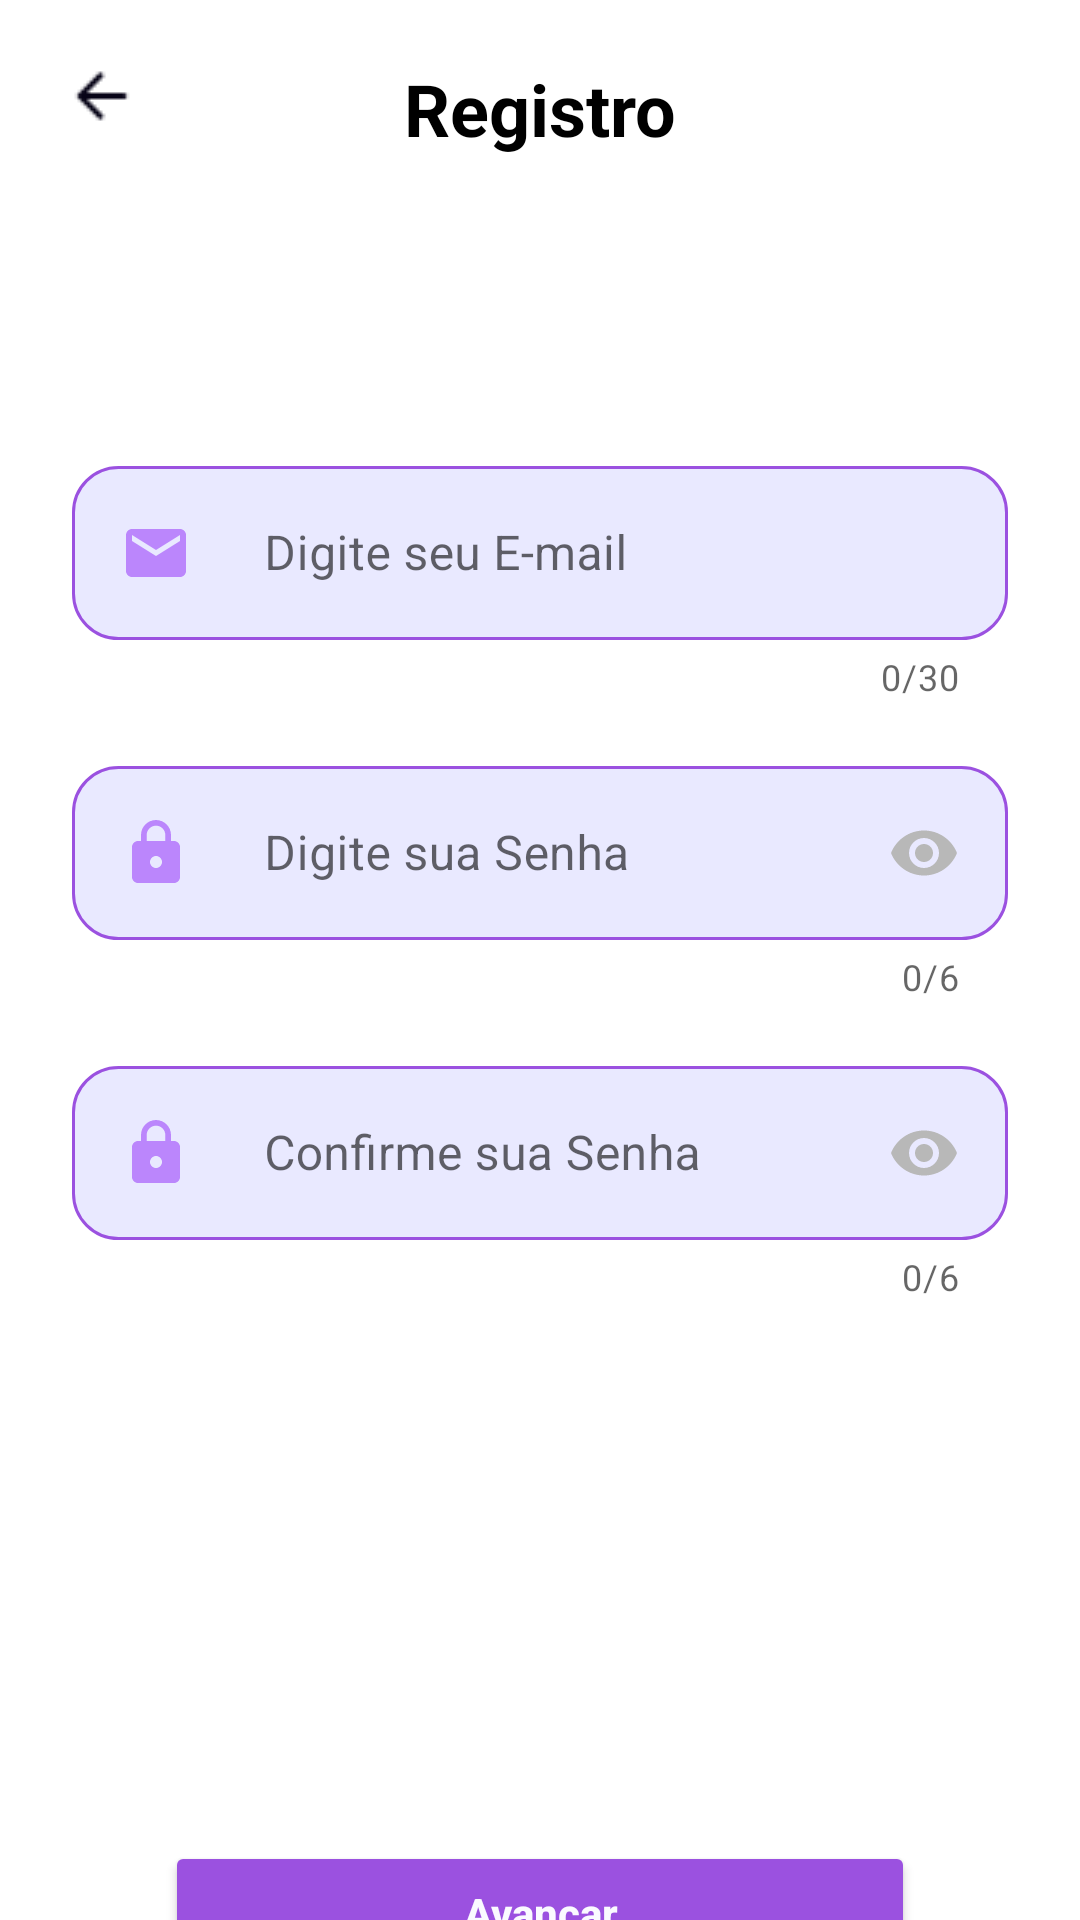

Locate icon controls on the screen. Image size 1080 x 1920, boxes as detection(x1, y1, x2, y2).
voltar: detection(76, 71, 128, 121)
